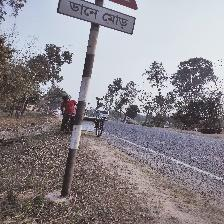Right-turn: (52, 0, 138, 37)
